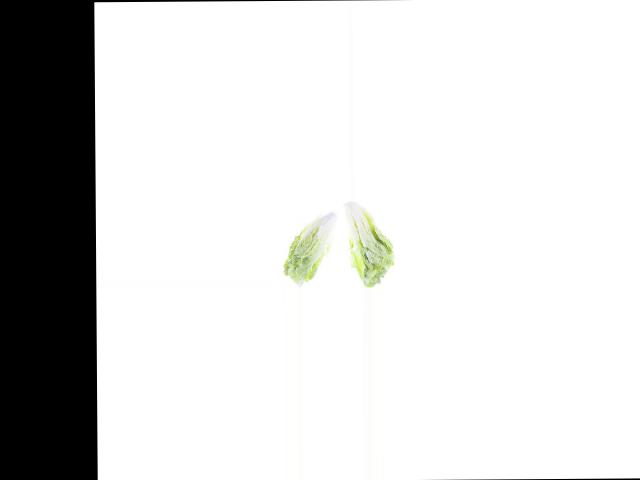lettuce: (281, 203, 338, 285)
